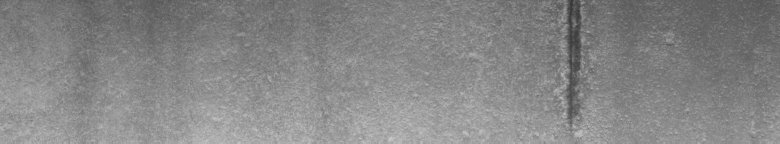hd: (556, 4, 589, 127)
